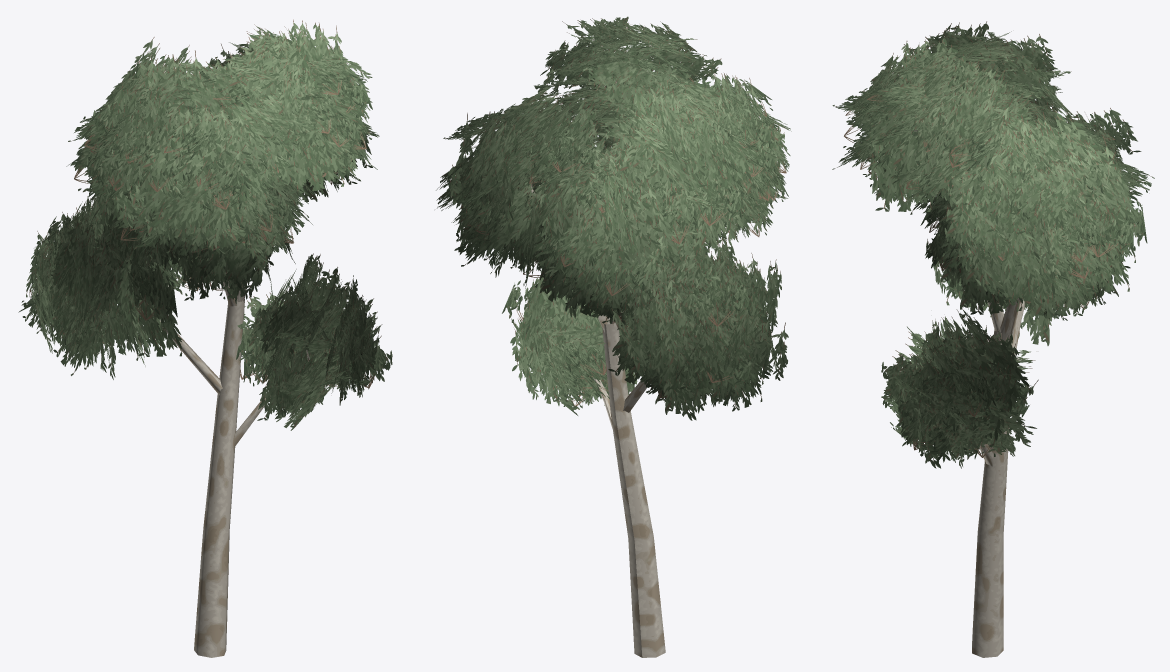
The model's file is tree_eucalyptus.glb.
3 renders of one model, left to right at view 1: azimuth 30°, elevation 25°; view 2: azimuth 150°, elevation 25°; view 3: azimuth 270°, elevation 25°, orthographic. The views are drawn at different scales.
Visible parts, largest first — view 1: tree_eucalyptus; view 2: tree_eucalyptus; view 3: tree_eucalyptus.
Boxes of the visible parts, left/top/right/bottom form: tree_eucalyptus: left=18, top=19, right=392, bottom=657; tree_eucalyptus: left=436, top=16, right=791, bottom=657; tree_eucalyptus: left=832, top=21, right=1154, bottom=657.
Bounding box in the file's own units: 13.35 × 22.99 × 10.88.
Materials: 1 (1 with a texture image).
